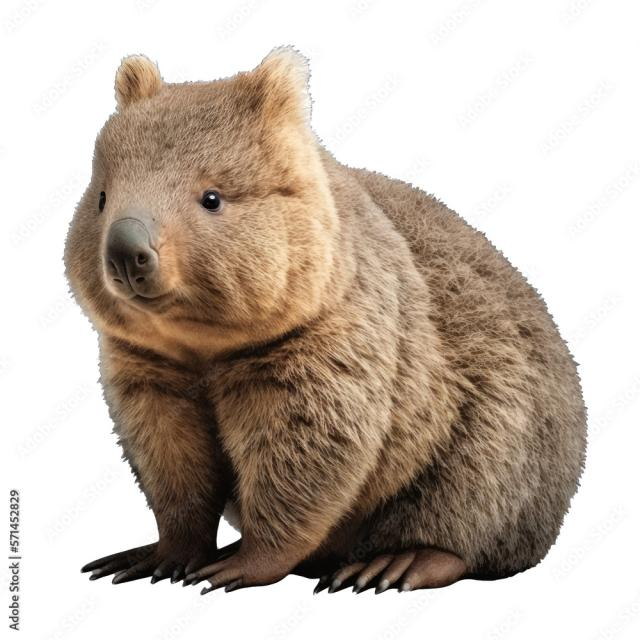Wombat: (52, 38, 594, 590)
